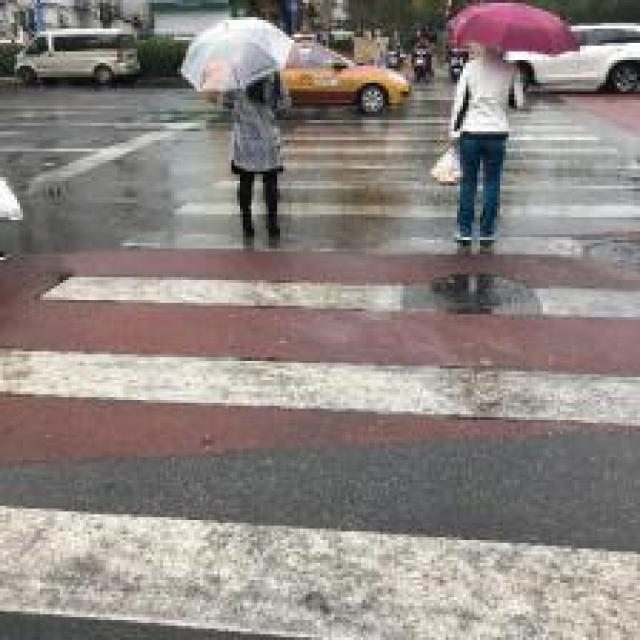crosswalk: (2, 72, 640, 640)
